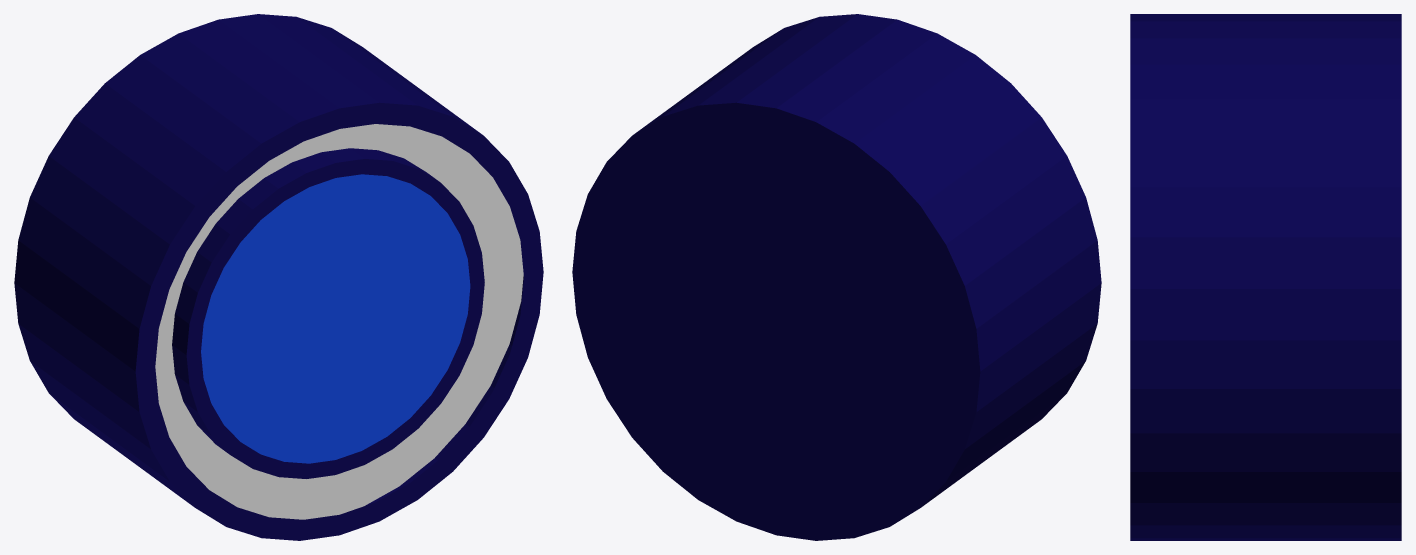
3 renders of one model, left to right at view 1: azimuth 30°, elevation 25°; view 2: azimuth 150°, elevation 25°; view 3: azimuth 270°, elevation 25°, orthographic. The views are drawn at different scales.
Parts seen in each view (by area): view 1: back right; view 2: back right; view 3: back right.
Boxes of the visible parts, x1,y1,x2,y2 form: back right: [14, 14, 543, 540]; back right: [572, 14, 1101, 540]; back right: [1130, 14, 1401, 540].
Size of the model in its own units: 491 by 491 by 253.
